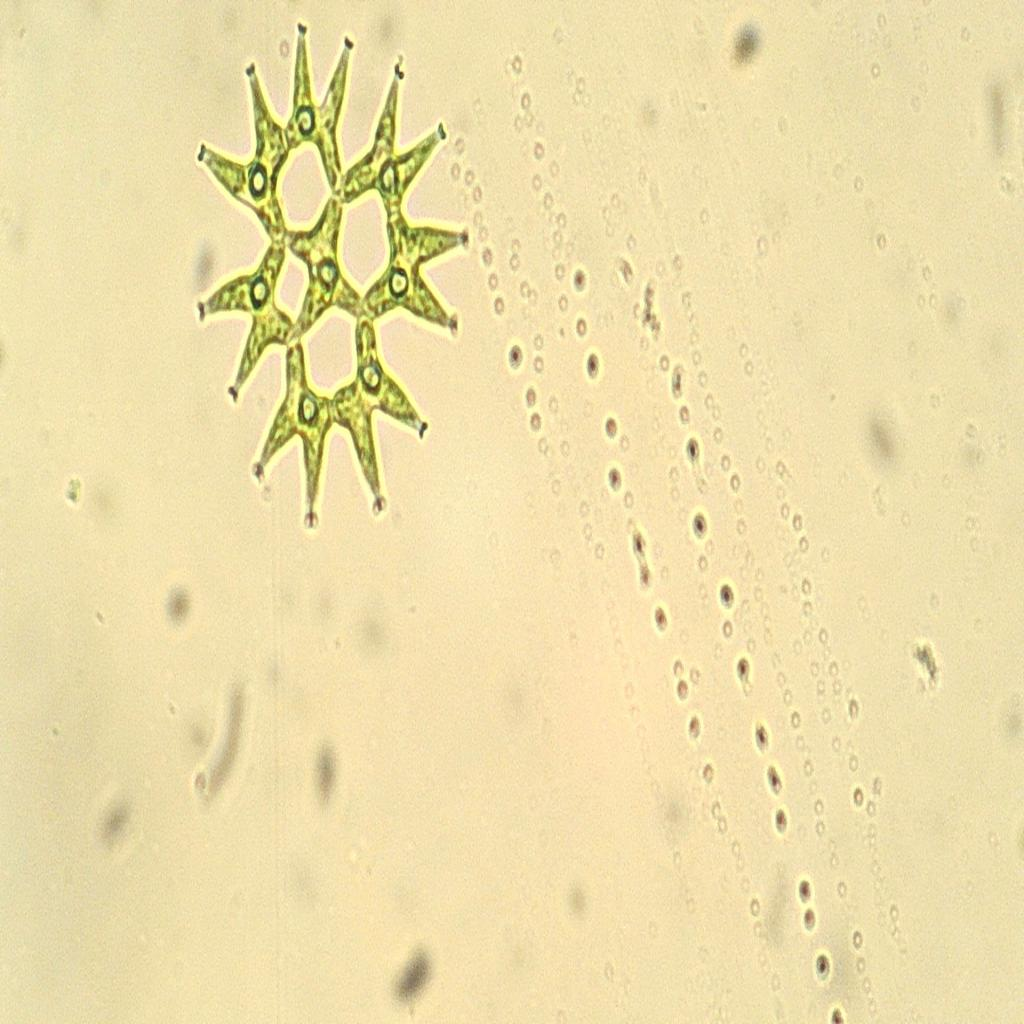Pediastrum_1T: (184, 13, 489, 541)
